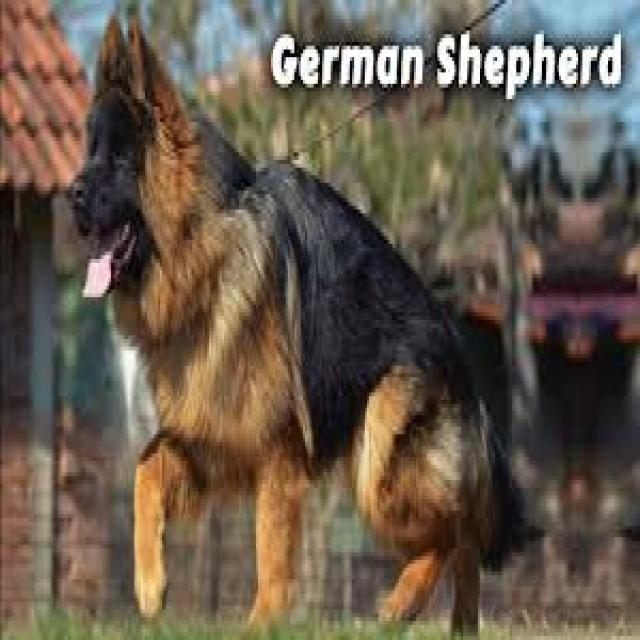Dog: (69, 11, 504, 640)
